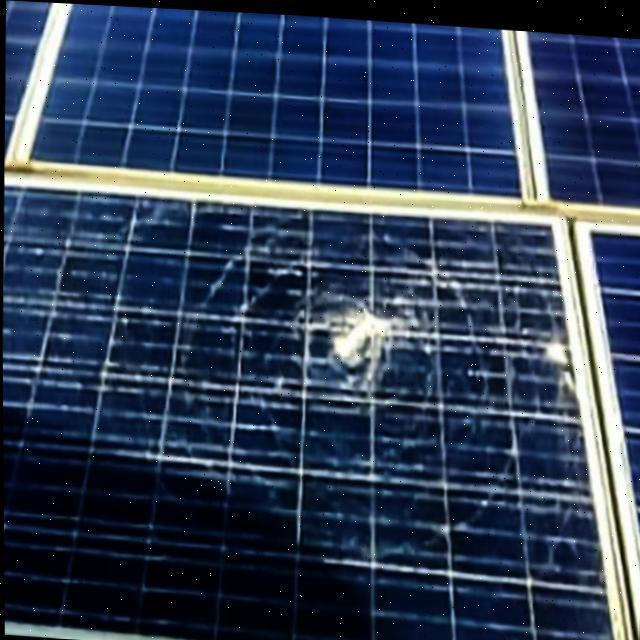Anomaly Solar Panel: (2, 187, 612, 640)
Normal Solar Panel: (4, 0, 640, 203)
Structural Damage: (230, 233, 515, 460)
